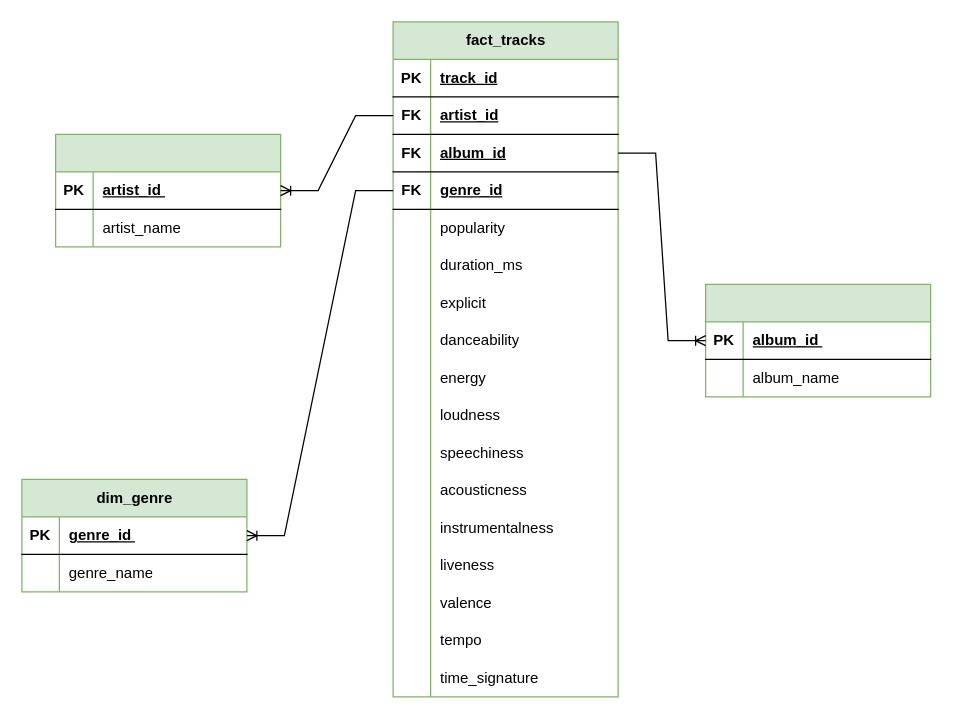
This 953x719 diagram has some shape labels left out. The shapes that lost their labels are listed below. From the top down, each one's box as (x1, y1, x2, y2) in pixels, then its label:
(54, 133, 281, 247): dim_artist
(704, 283, 931, 397): dim_album
